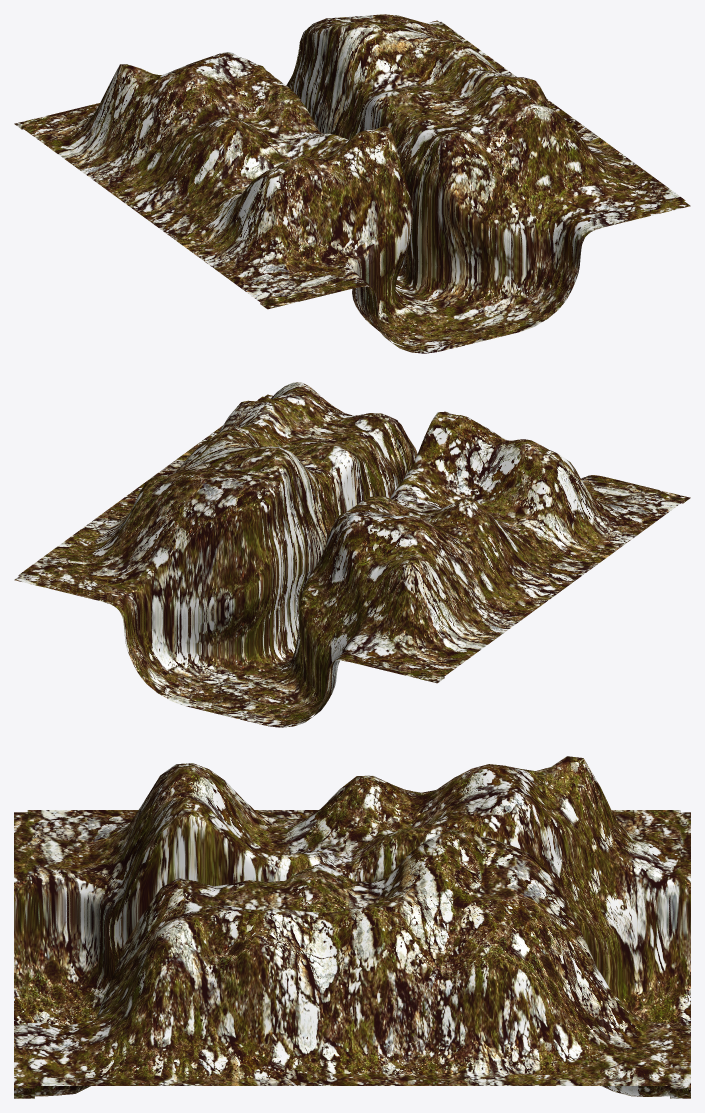
The model's file is Tight.FBX.
3 views of the same model, one above another, from view 1: azimuth 30°, elevation 25°; view 2: azimuth 150°, elevation 25°; view 3: azimuth 270°, elevation 25° (orthographic). The views are drawn at different scales.
Visible parts, largest first — view 1: Tight_flat; view 2: Tight_flat; view 3: Tight_flat.
Part boxes in pixels (x1,y1,x2,y2): Tight_flat: (14, 14, 690, 353); Tight_flat: (14, 382, 690, 727); Tight_flat: (14, 756, 690, 1098).
Size of the model in its own units: 1000 by 436 by 1037.
